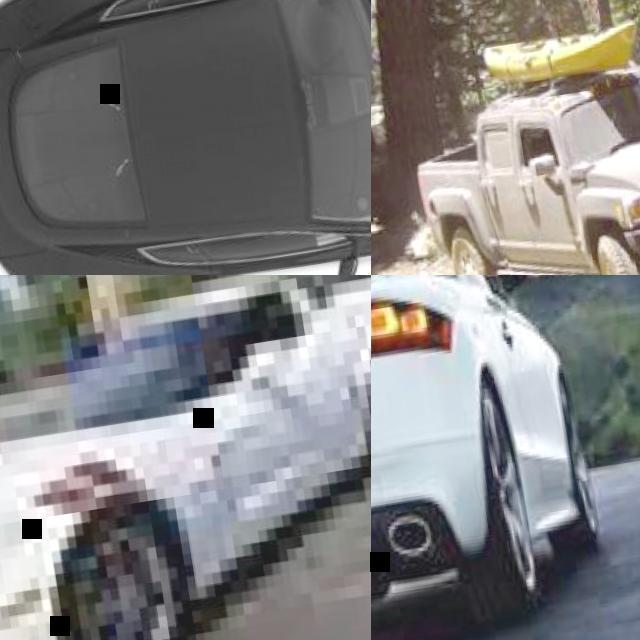car: (367, 266, 634, 631)
